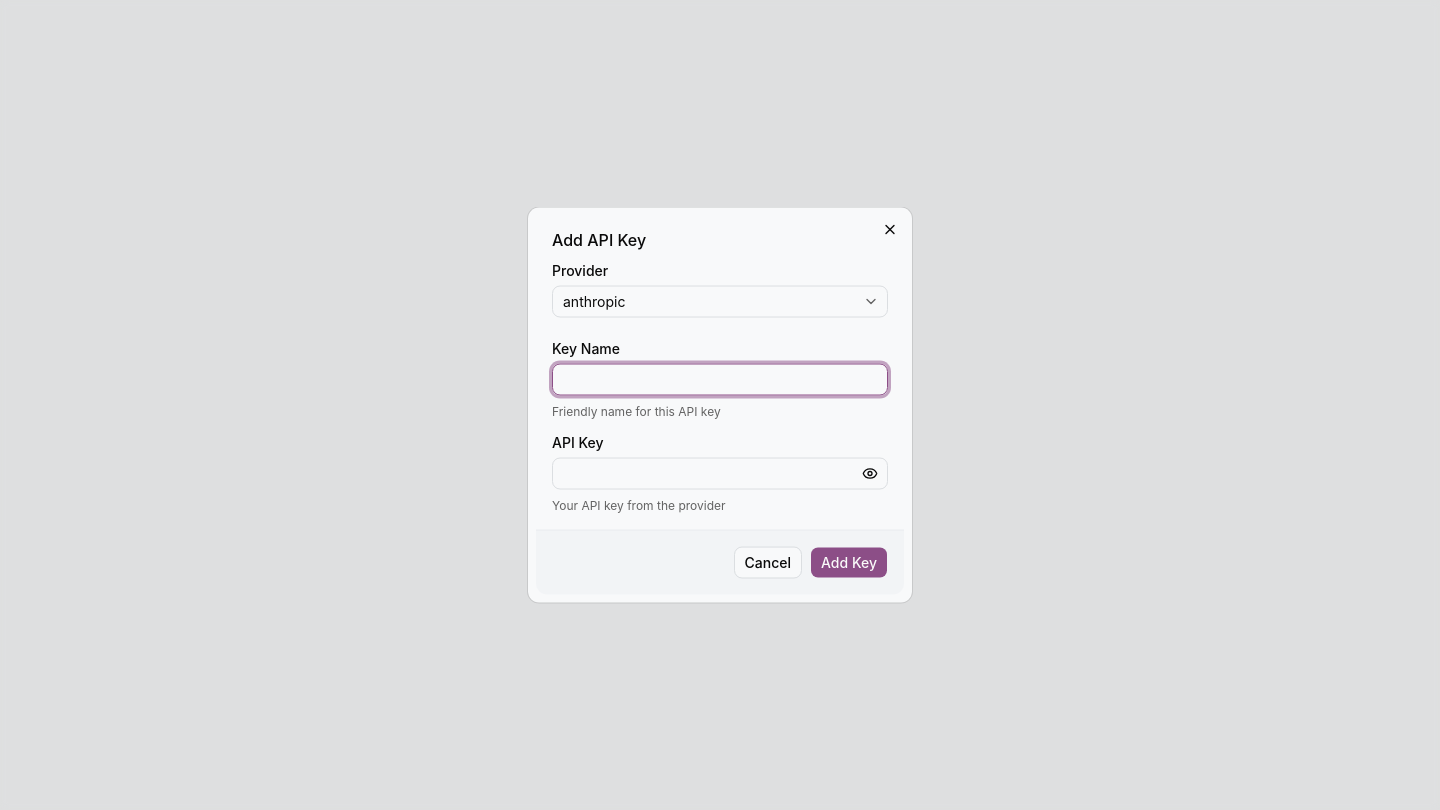
Test: ApiKeyDialog › Create Mode › disables submit button while loading
Expected: the dialog is shown, [528,208,912,602]
Step 1. Type "Test Key" into the field labelled "Key Name" → (720, 380), box [552,364,888,396]
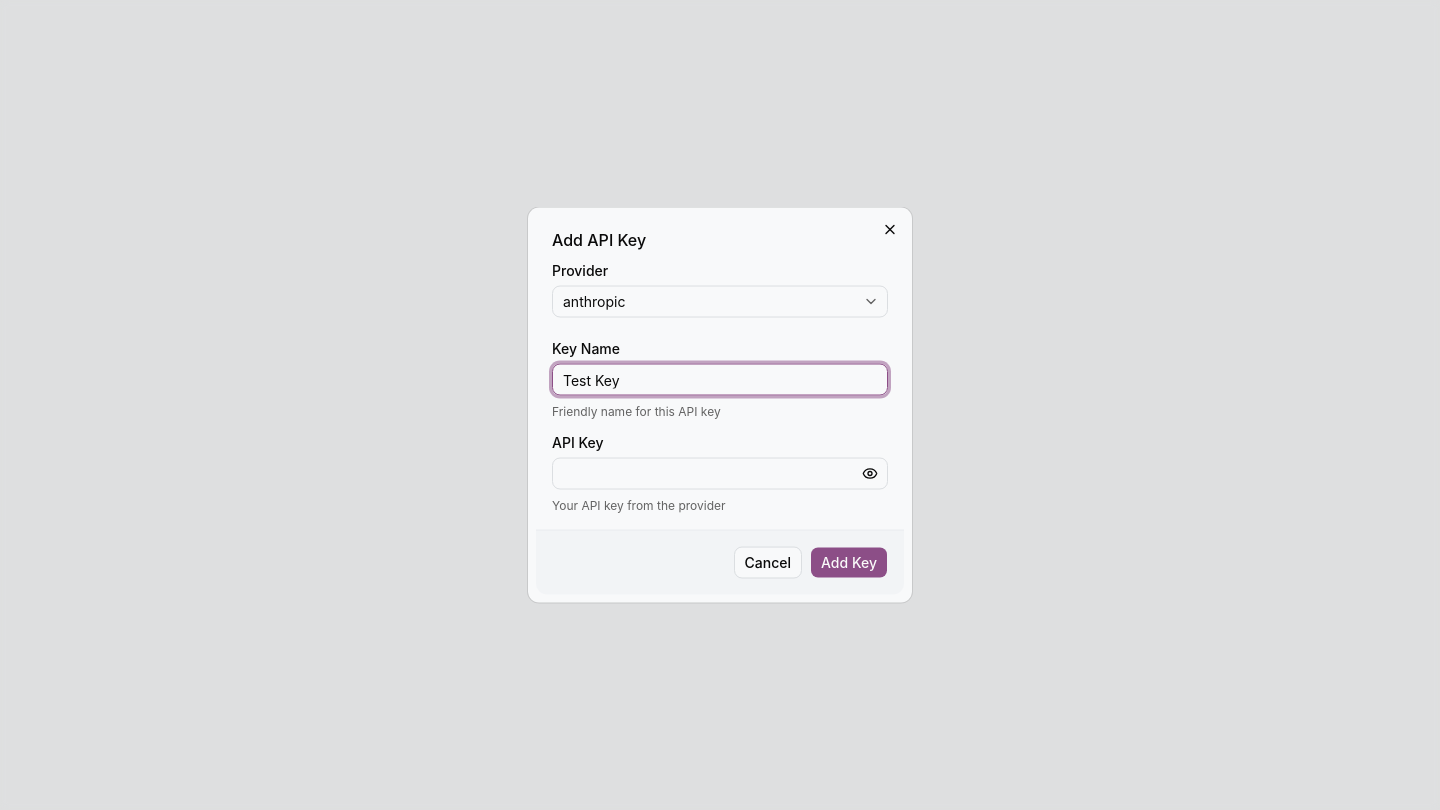
Step 2. Type "sk-test123" into the password field labelled "API Key" → (720, 474), box [552,458,888,490]
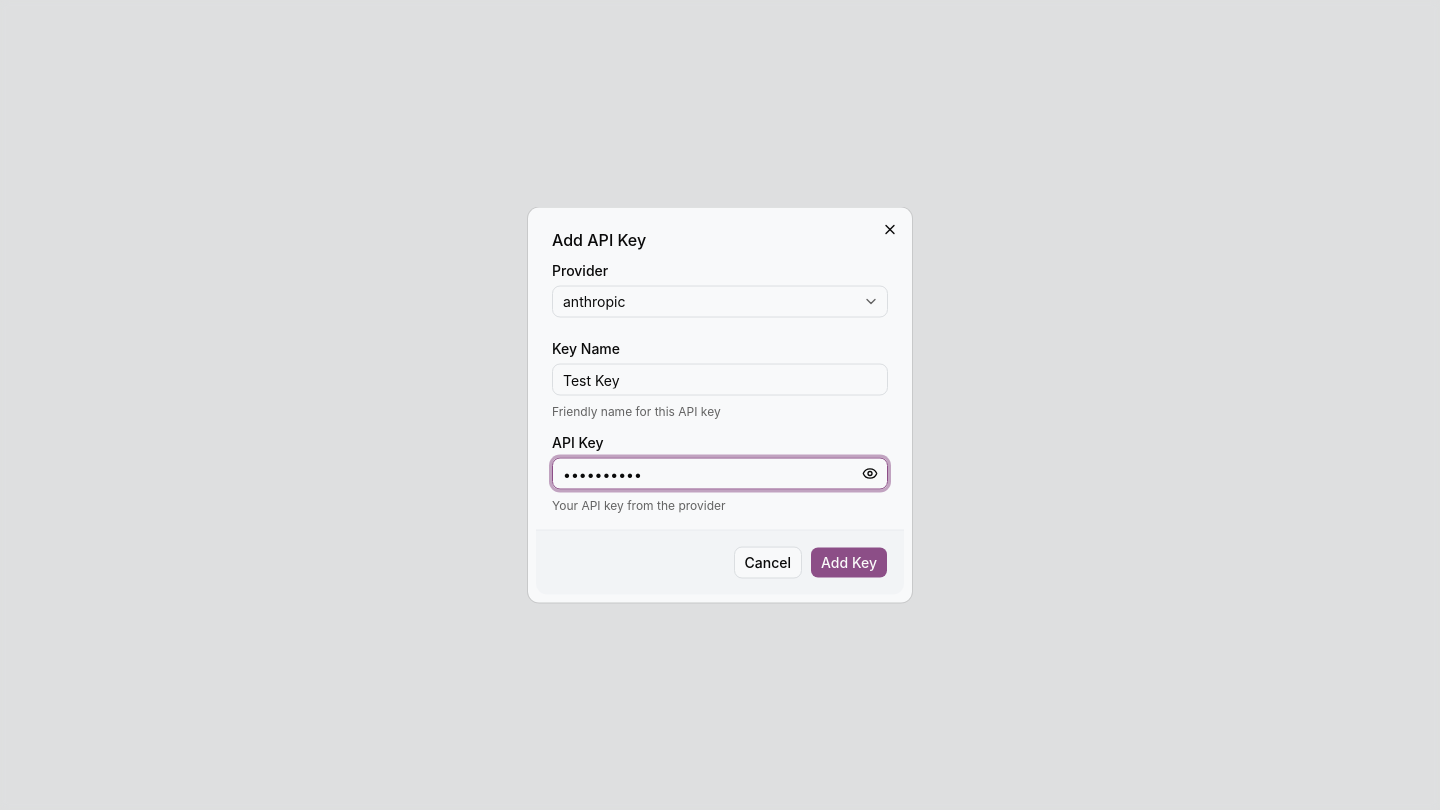
# Submit form
Step 3. Submit the form named "add key", box [552,232,888,578]
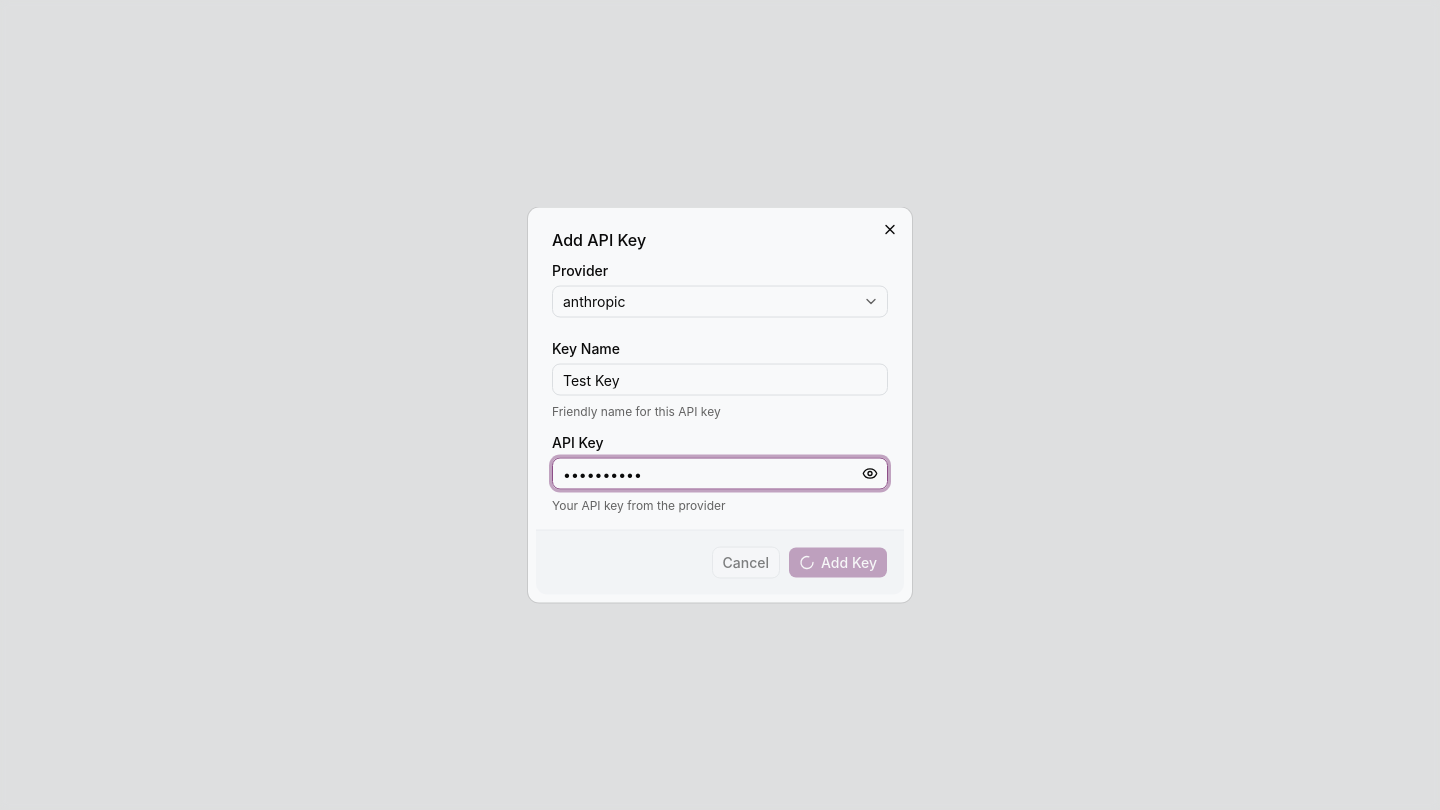
Expected: the button "Add Key" is disabled, [788,546,888,578]
Expected: the message is shown, [799,554,815,570]
